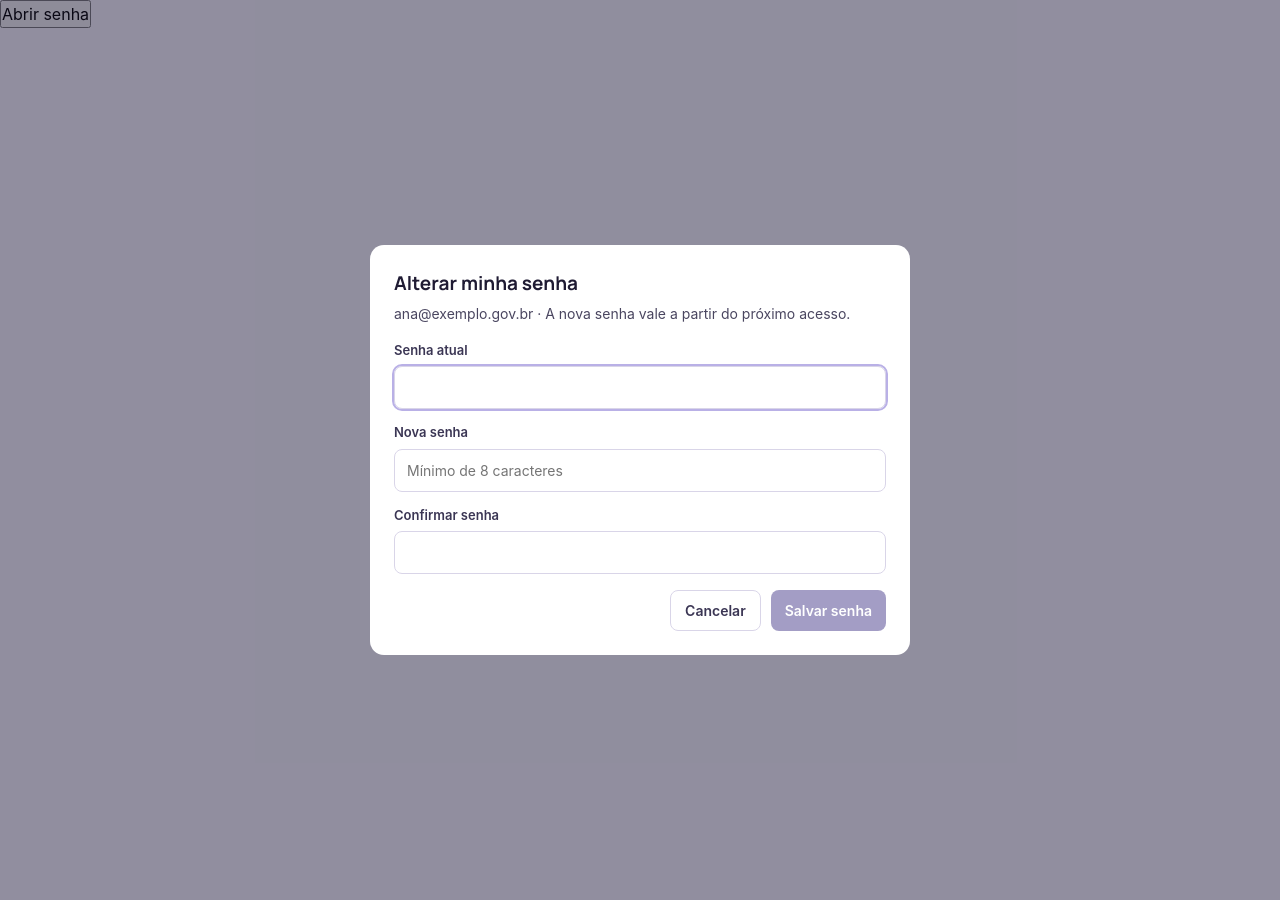
Test: ChangePasswordDialog › explica a origem não autorizada no 403 INVALID_ORIGIN
Type "atual-123" into the password field labelled "Senha atual" at (640,388), box [394,366,886,409]
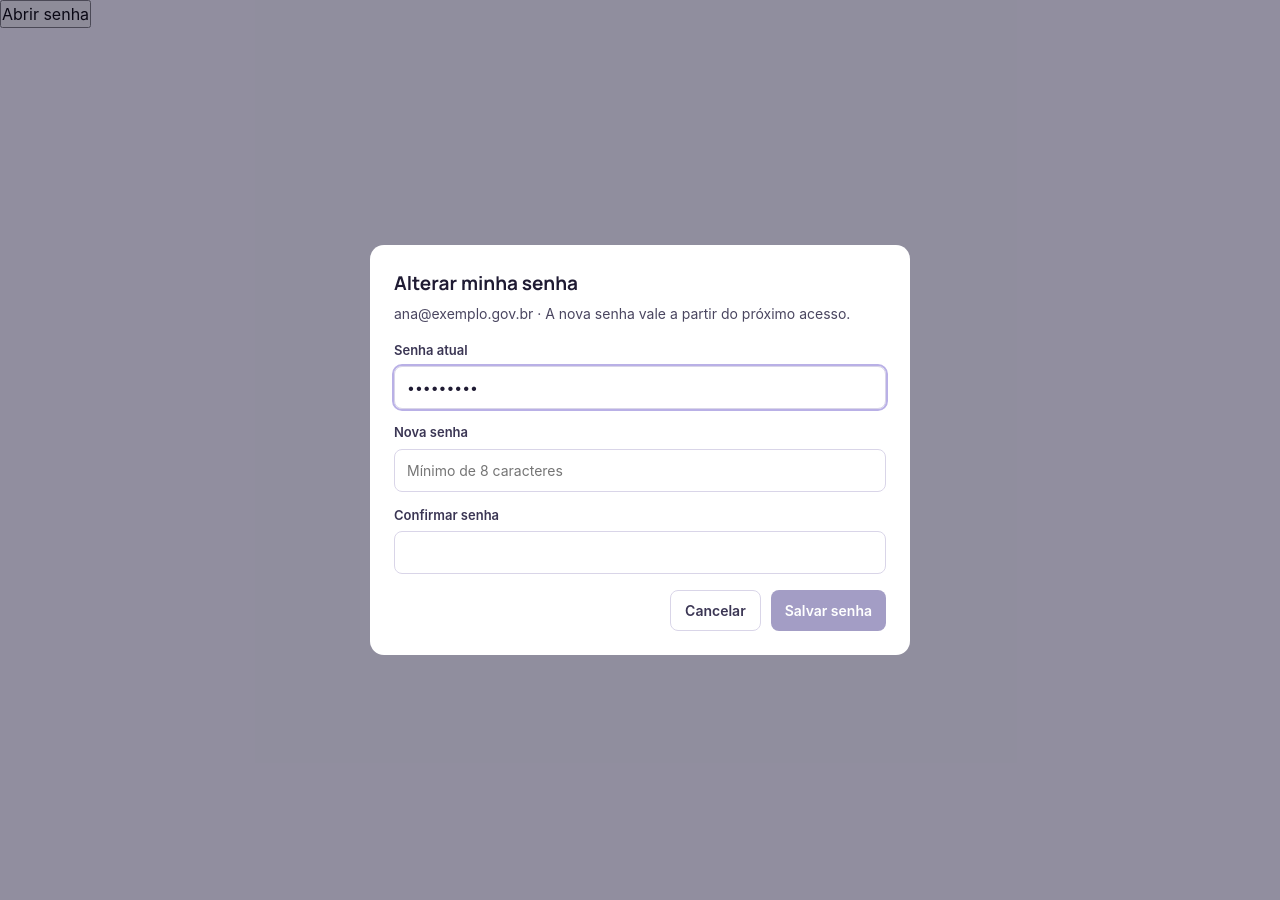
Type "nova-senha-123" into the password field labelled "Nova senha" at (640,470), box [394,449,886,492]
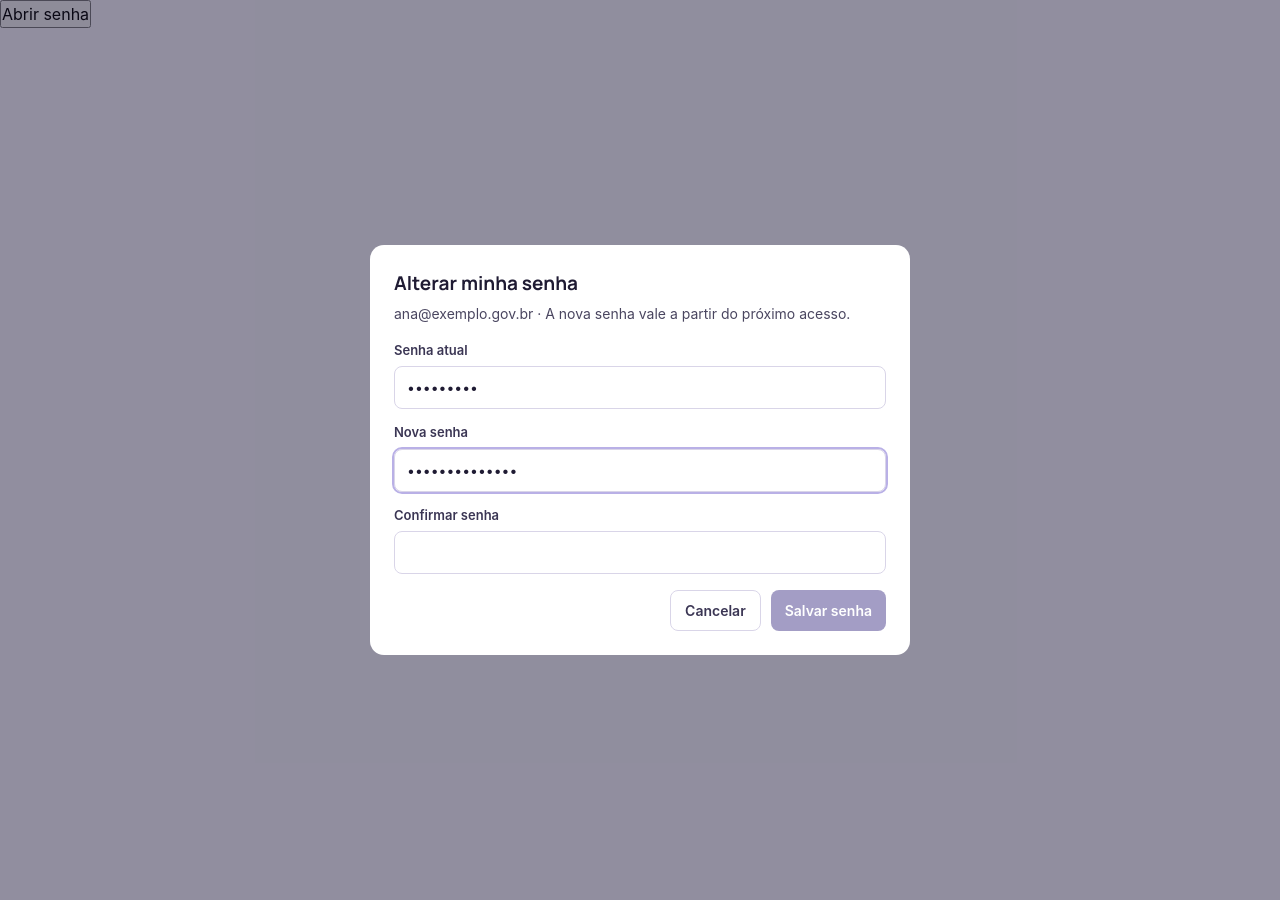
Type "nova-senha-123" into the password field labelled "Confirmar senha" at (640,553), box [394,531,886,574]
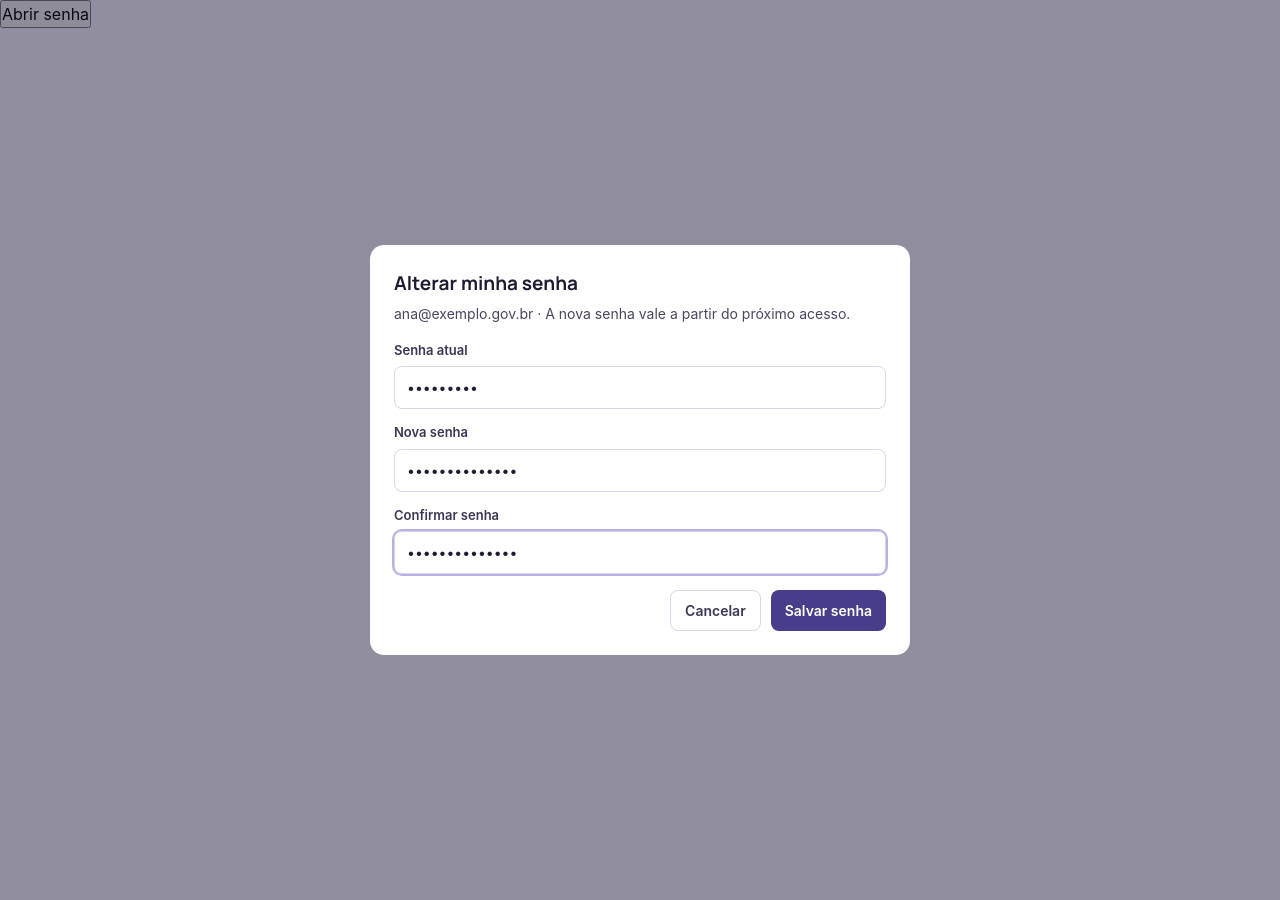
Click the button "Salvar senha" at (828,611), box [771,590,886,631]
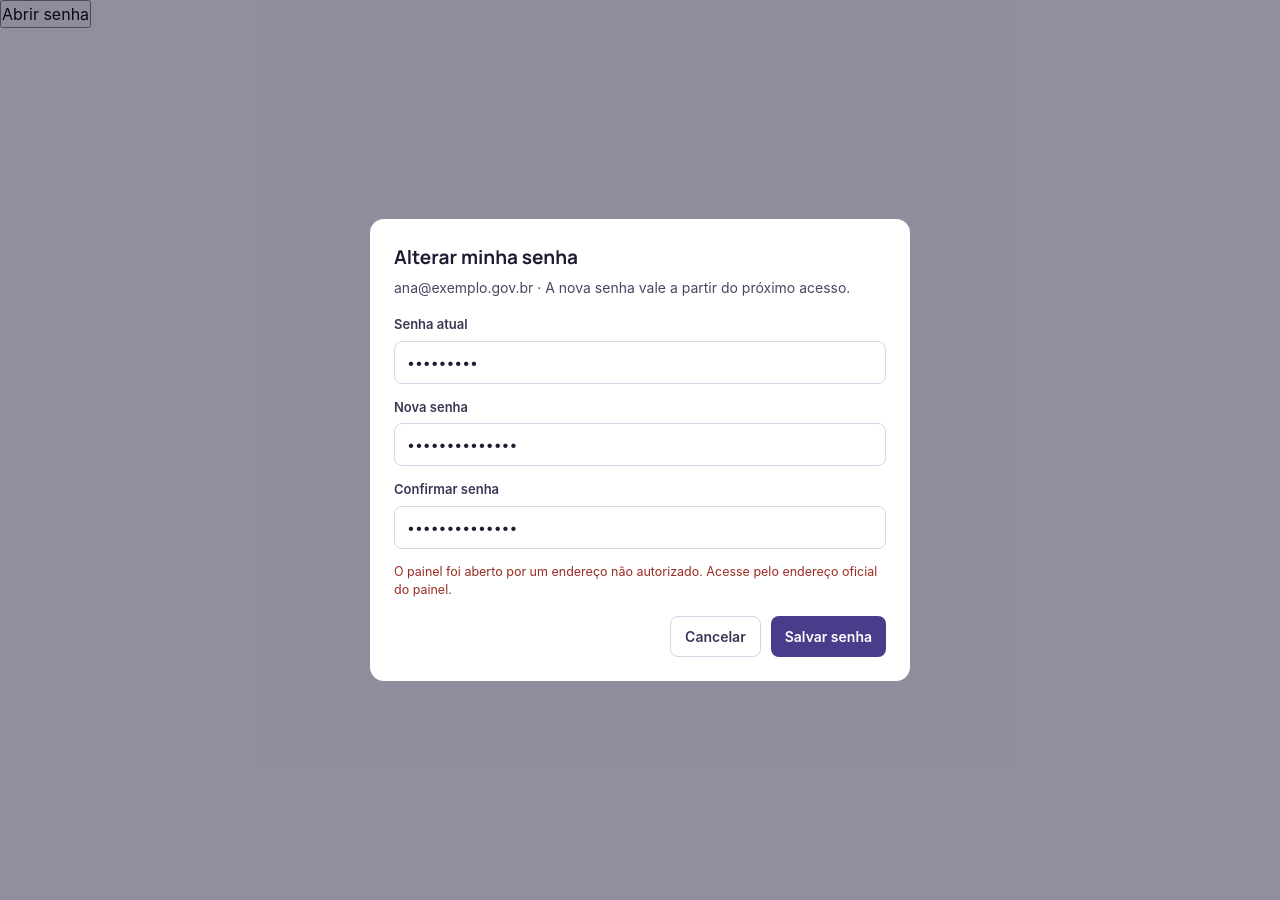
Check: the message shows "O painel foi aberto por um endereço não autorizado. Acesse pelo endereço oficial do painel.", box [394,564,877,597]
